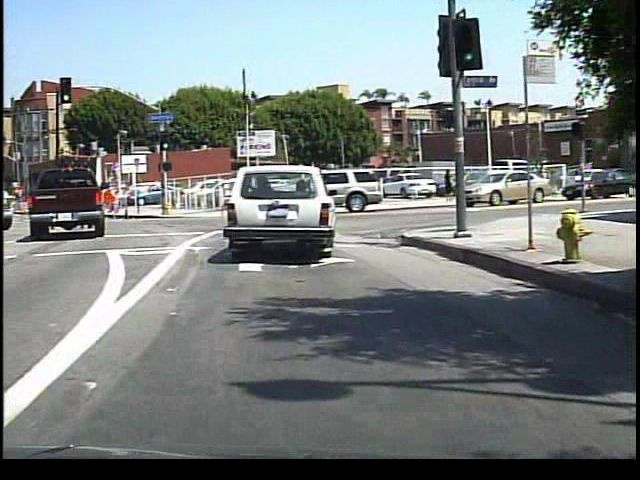person: (440, 166, 454, 205)
